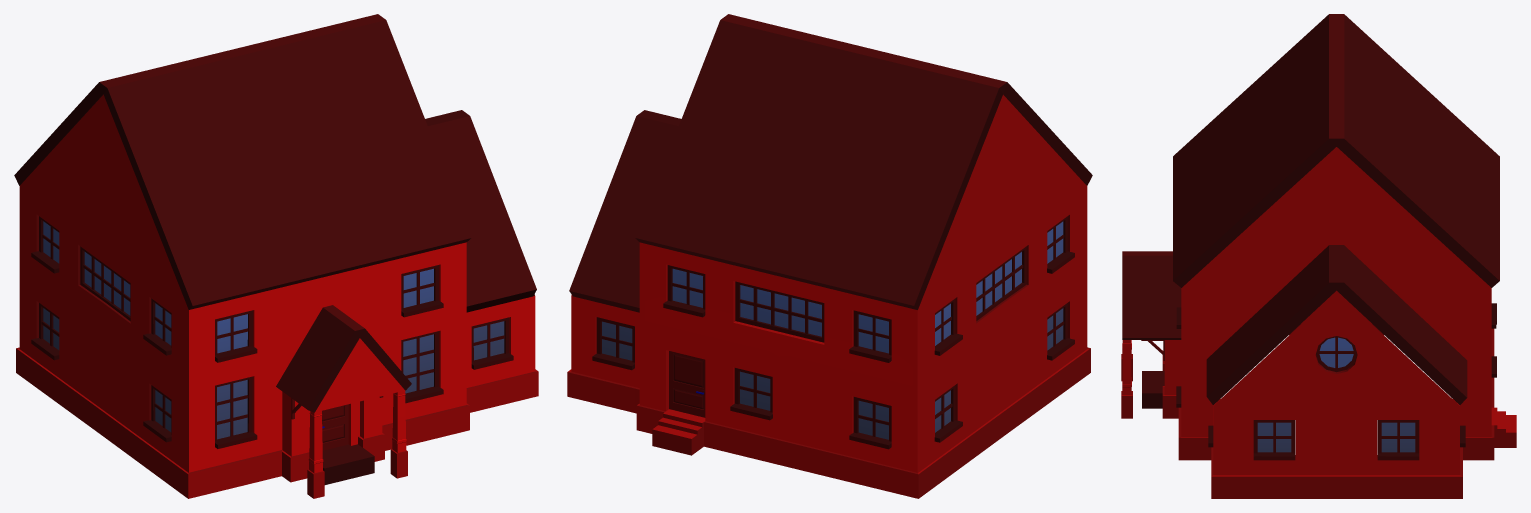
File: buildings-residential-largefamilyhome_v3.fbx
3 renders of one model, left to right at view 1: azimuth 30°, elevation 25°; view 2: azimuth 150°, elevation 25°; view 3: azimuth 270°, elevation 25°, orthographic. The views are drawn at different scales.
Visible parts, largest first — view 1: LargeFamilyHome_v3_base, LargeFamilyHome_v3_windowRefl; view 2: LargeFamilyHome_v3_base, LargeFamilyHome_v3_windowRefl; view 3: LargeFamilyHome_v3_base, LargeFamilyHome_v3_windowRefl.
Boxes of the visible parts, bbox=[...] form: LargeFamilyHome_v3_base: bbox=[14, 14, 538, 498]; LargeFamilyHome_v3_windowRefl: bbox=[43, 221, 504, 439]; LargeFamilyHome_v3_base: bbox=[567, 14, 1092, 498]; LargeFamilyHome_v3_windowRefl: bbox=[602, 221, 1063, 439]; LargeFamilyHome_v3_base: bbox=[1121, 14, 1516, 498]; LargeFamilyHome_v3_windowRefl: bbox=[1257, 337, 1415, 452].
Size of the model in its own units: 14.61 by 13.1 by 14.61.
